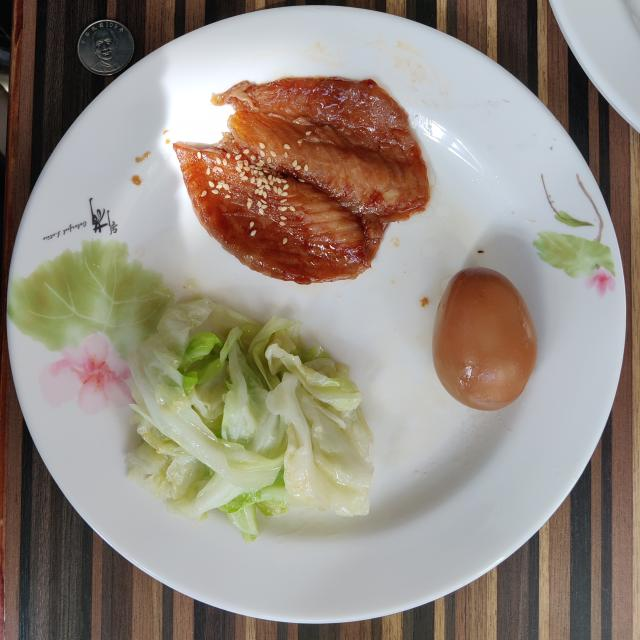Kabayaki sea bream fillet: (174, 78, 429, 284)
cabbage: (126, 299, 374, 542)
coin: (78, 20, 134, 76)
soy egg: (432, 268, 538, 410)
